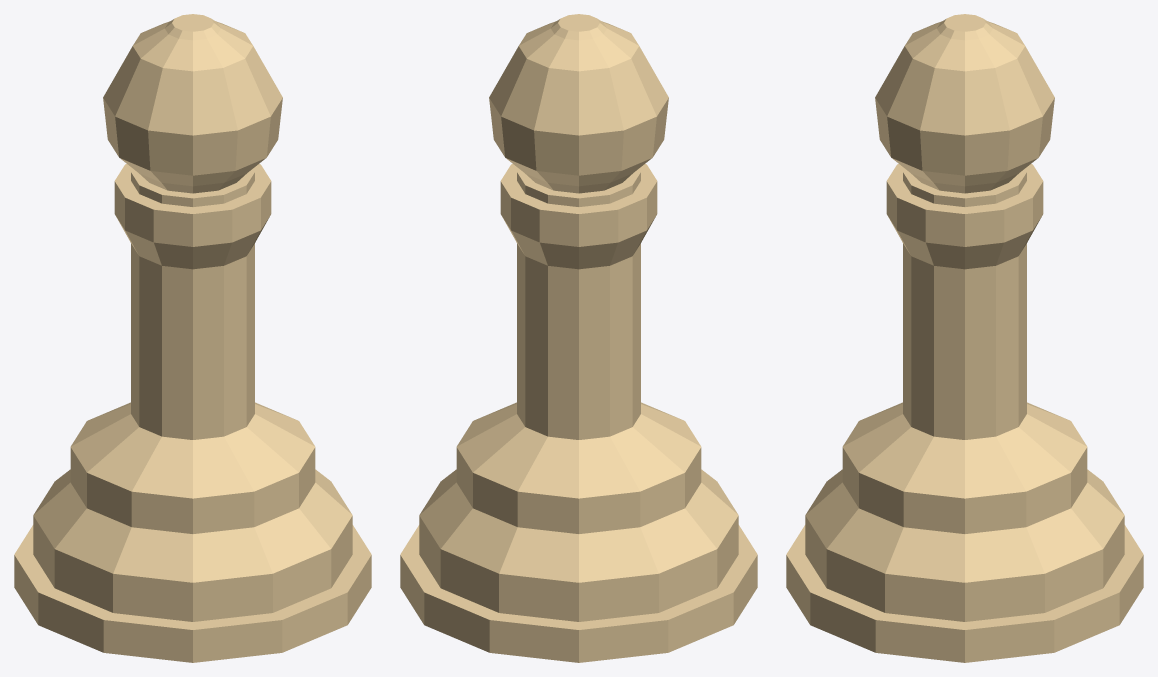
Rendered from lowpoly_p_w.glb.
The picture shows the model from 3 angles, left to right: view 1: azimuth 30°, elevation 25°; view 2: azimuth 150°, elevation 25°; view 3: azimuth 270°, elevation 25°; orthographic projection.
Parts seen in each view (by area): view 1: Pawn.002; view 2: Pawn.002; view 3: Pawn.002.
Part boxes in pixels (box(x1,y1,x2,y2)): Pawn.002: box(14, 14, 371, 662); Pawn.002: box(400, 14, 757, 662); Pawn.002: box(786, 14, 1143, 662).
Bounding box in the file's own units: 0.064 × 0.1115 × 0.064.
